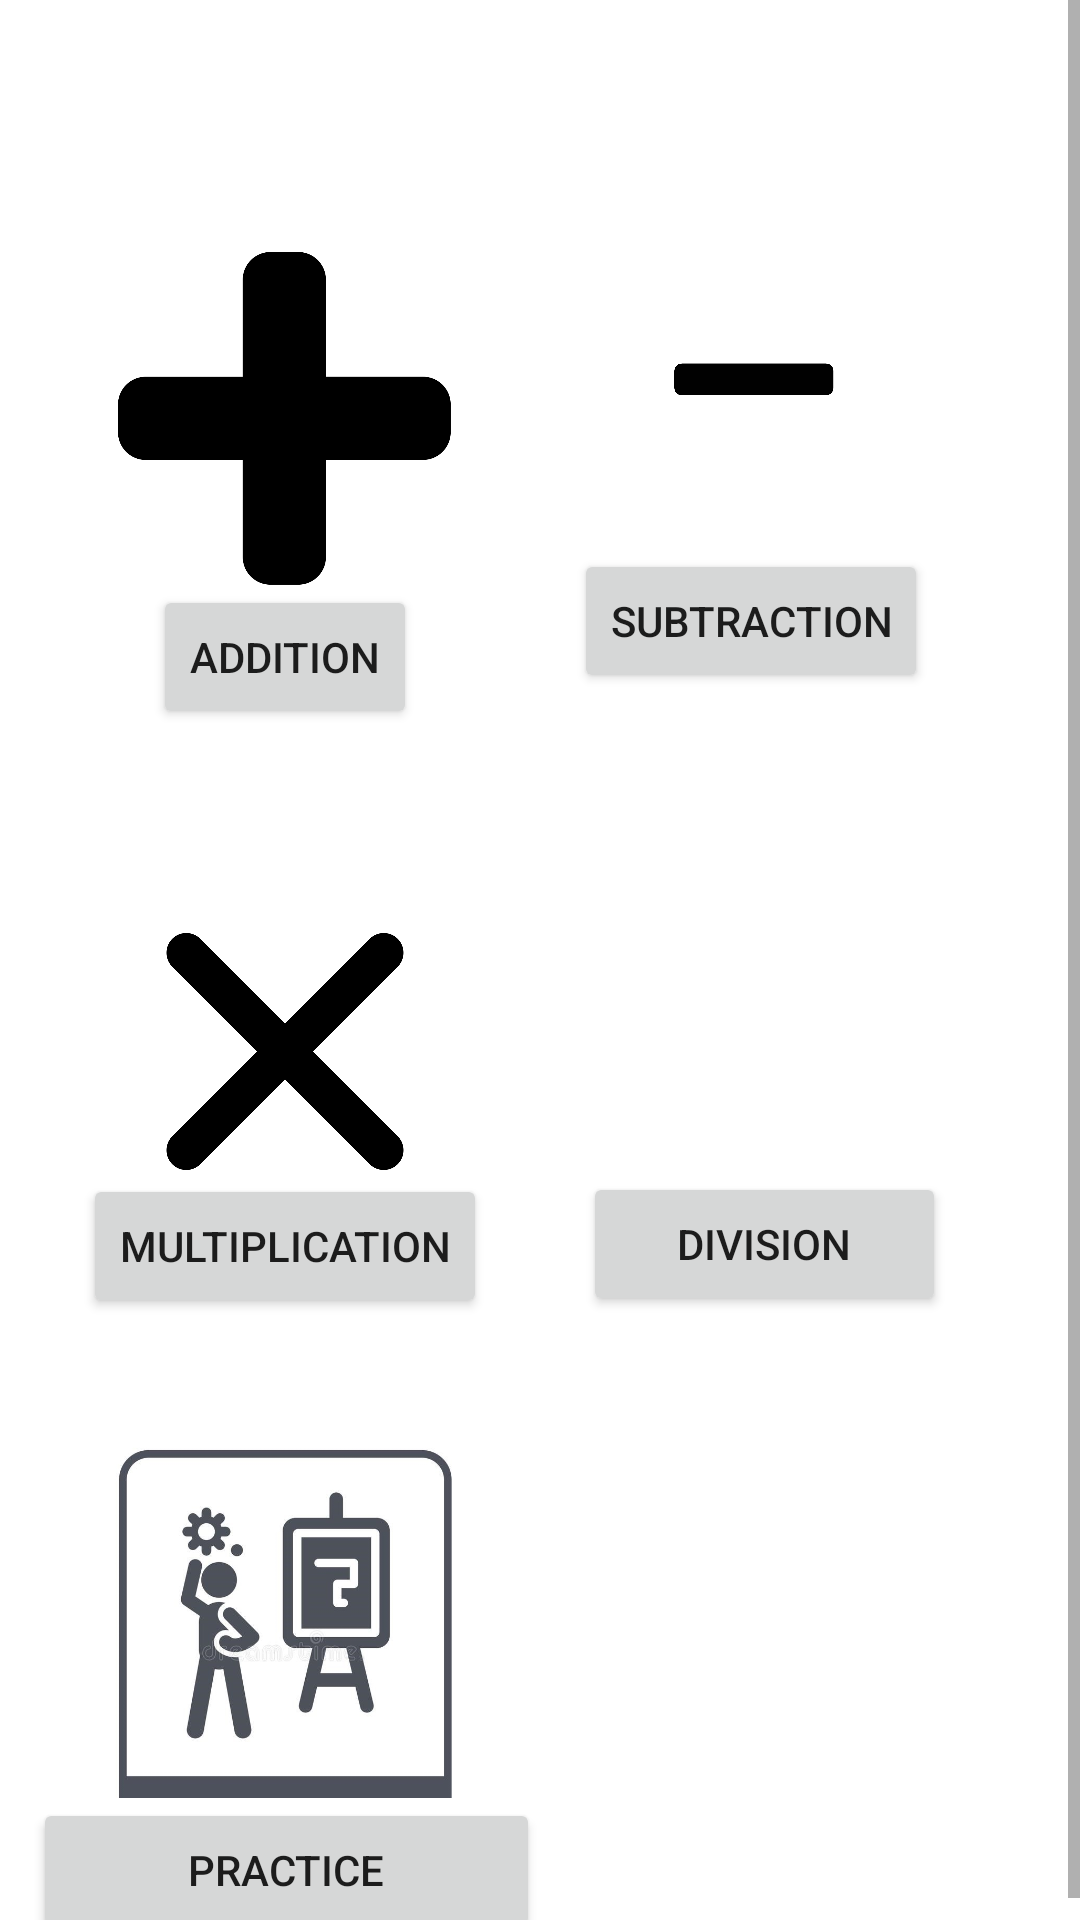

Locate icon controls on the screen. Image size 1080px x 1920px, boxes as box(x1, y1, x2, y2).
minus: box(674, 363, 834, 395)
